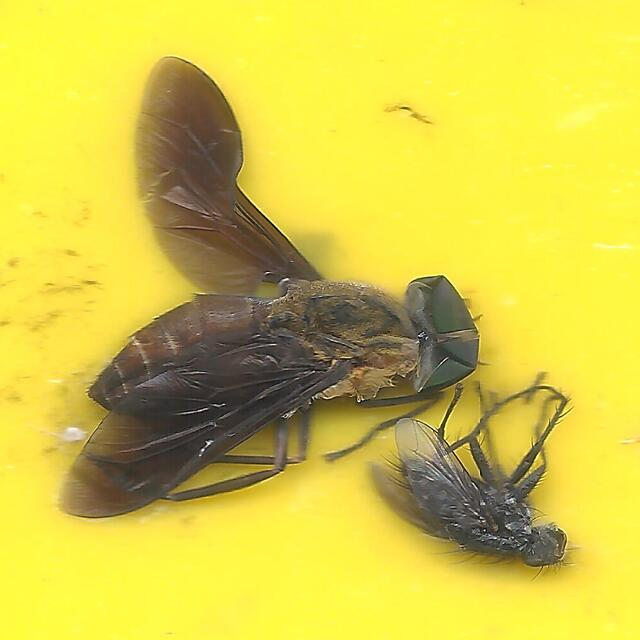Brachycera: (64, 55, 478, 520), (365, 367, 576, 585)
